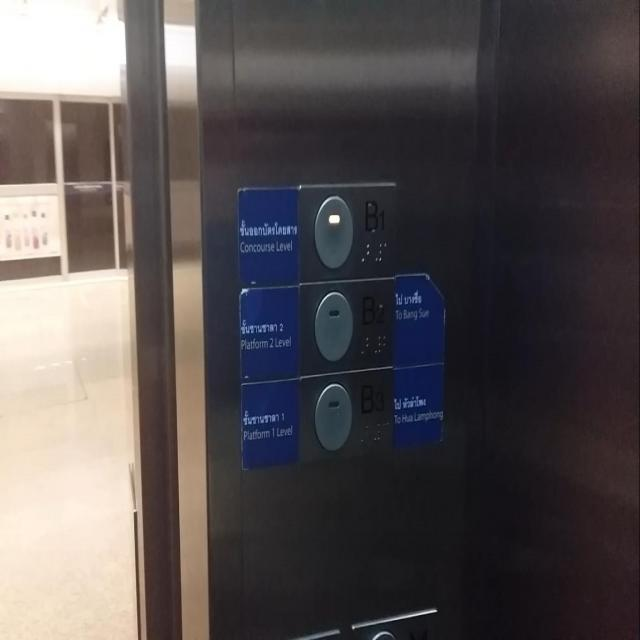B1: (297, 178, 405, 282)
B2: (297, 278, 400, 378)
B3: (295, 362, 399, 461)
